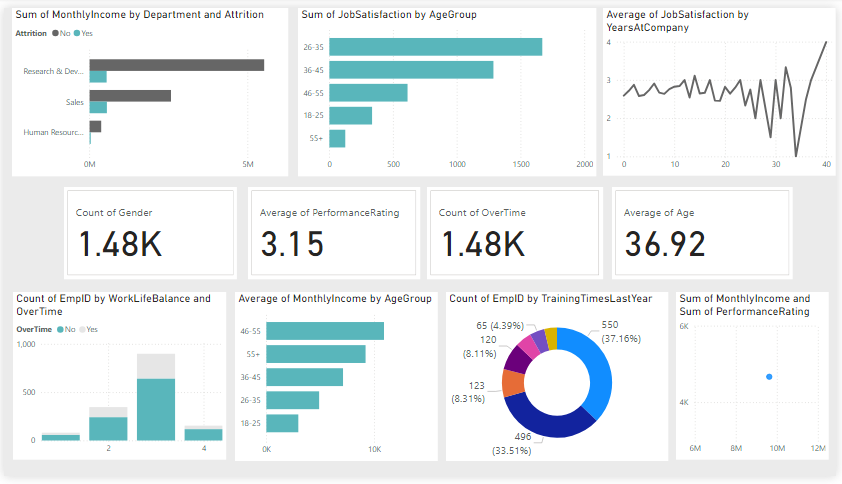

The dashboard page shown, as its layout file describes it:
{"tool":"powerbi","page":{"name":"Page 1","canvas":[1280,720],"ordinal":0},"visuals":[{"type":"clusteredBarChart","fields":{"Y":["Sum(HR_Analytics.MonthlyIncome)"],"Category":["HR_Analytics.Department","HR_Analytics.JobRole"],"Series":["HR_Analytics.Attrition"]},"box":[13,0,425,259],"z":1000},{"type":"barChart","fields":{"Category":["HR_Analytics.AgeGroup","HR_Analytics.JobRole","HR_Analytics.Department"],"Y":["Sum(HR_Analytics.JobSatisfaction)"]},"box":[451.7,0,458.6,258.6],"z":2000},{"type":"scatterChart","fields":{"Y":["Sum(HR_Analytics.PerformanceRating)"],"X":["Sum(HR_Analytics.MonthlyIncome)"]},"box":[1033.8,436.9,235.4,258.5],"z":3000},{"type":"columnChart","fields":{"Category":["HR_Analytics.WorkLifeBalance"],"Y":["CountNonNull(HR_Analytics.EmpID)"],"Series":["HR_Analytics.OverTime"]},"box":[13.8,436.9,327.7,258.5],"z":4000},{"type":"clusteredBarChart","fields":{"Y":["Avg(HR_Analytics.MonthlyIncome)"],"Category":["HR_Analytics.AgeGroup"]},"box":[355.4,436.9,312.3,260],"z":5000},{"type":"donutChart","fields":{"Y":["CountNonNull(HR_Analytics.EmpID)"],"Category":["HR_Analytics.TrainingTimesLastYear"]},"box":[680,436.9,341.5,260],"z":6000},{"type":"cardVisual","fields":{"Data":["Avg(HR_Analytics.PerformanceRating)"]},"box":[375.4,275.4,264.6,141.5],"z":7000},{"type":"cardVisual","fields":{"Data":["CountNonNull(HR_Analytics.OverTime)"]},"box":[650.8,275.4,270.8,141.5],"z":8000},{"type":"cardVisual","fields":{"Data":["CountNonNull(HR_Analytics.Gender)"]},"box":[92.3,275.4,266.2,141.5],"z":8001},{"type":"cardVisual","fields":{"Data":["Avg(HR_Analytics.Age)"]},"box":[935.4,275.4,278.5,141.5],"z":8002},{"type":"lineChart","fields":{"Y":["Avg(HR_Analytics.JobSatisfaction)"],"Category":["HR_Analytics.YearsAtCompany"]},"box":[921.5,0,358.5,258.5],"z":8003}]}

Visuals, with their boxes in screenshot pixels (x1, y1, x2, y2), scaled from the page's 1280x720 canvas onto the 842x484 screenshot:
clusteredBarChart - Sum(HR_Analytics.MonthlyIncome) x HR_Analytics.Department: <region>9, 0, 288, 174</region>
barChart - HR_Analytics.AgeGroup x HR_Analytics.JobRole: <region>297, 0, 599, 174</region>
scatterChart - Sum(HR_Analytics.PerformanceRating) x Sum(HR_Analytics.MonthlyIncome): <region>680, 294, 835, 467</region>
columnChart - HR_Analytics.WorkLifeBalance x CountNonNull(HR_Analytics.EmpID): <region>9, 294, 225, 467</region>
clusteredBarChart - Avg(HR_Analytics.MonthlyIncome) x HR_Analytics.AgeGroup: <region>234, 294, 439, 468</region>
donutChart - CountNonNull(HR_Analytics.EmpID) x HR_Analytics.TrainingTimesLastYear: <region>447, 294, 672, 468</region>
cardVisual - Avg(HR_Analytics.PerformanceRating): <region>247, 185, 421, 280</region>
cardVisual - CountNonNull(HR_Analytics.OverTime): <region>428, 185, 606, 280</region>
cardVisual - CountNonNull(HR_Analytics.Gender): <region>61, 185, 236, 280</region>
cardVisual - Avg(HR_Analytics.Age): <region>615, 185, 799, 280</region>
lineChart - Avg(HR_Analytics.JobSatisfaction) x HR_Analytics.YearsAtCompany: <region>606, 0, 841, 174</region>
